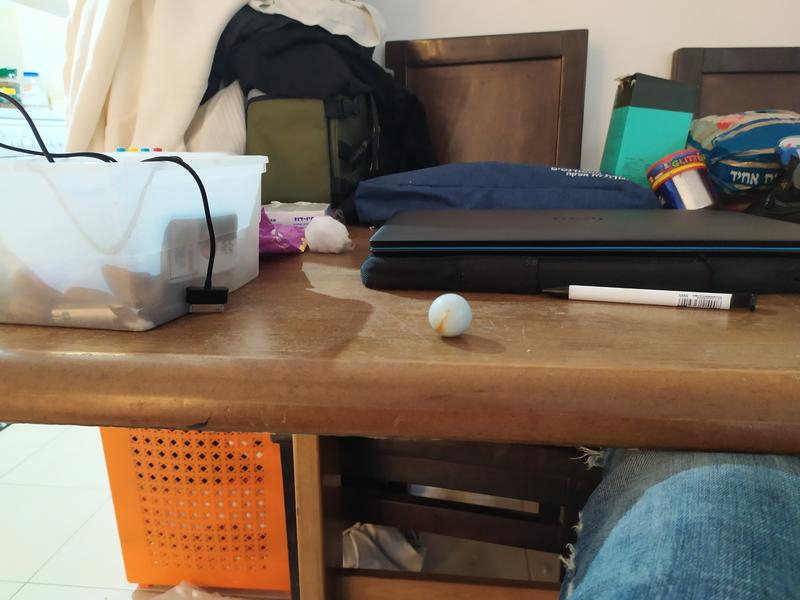Warning: (426, 291, 475, 339)
